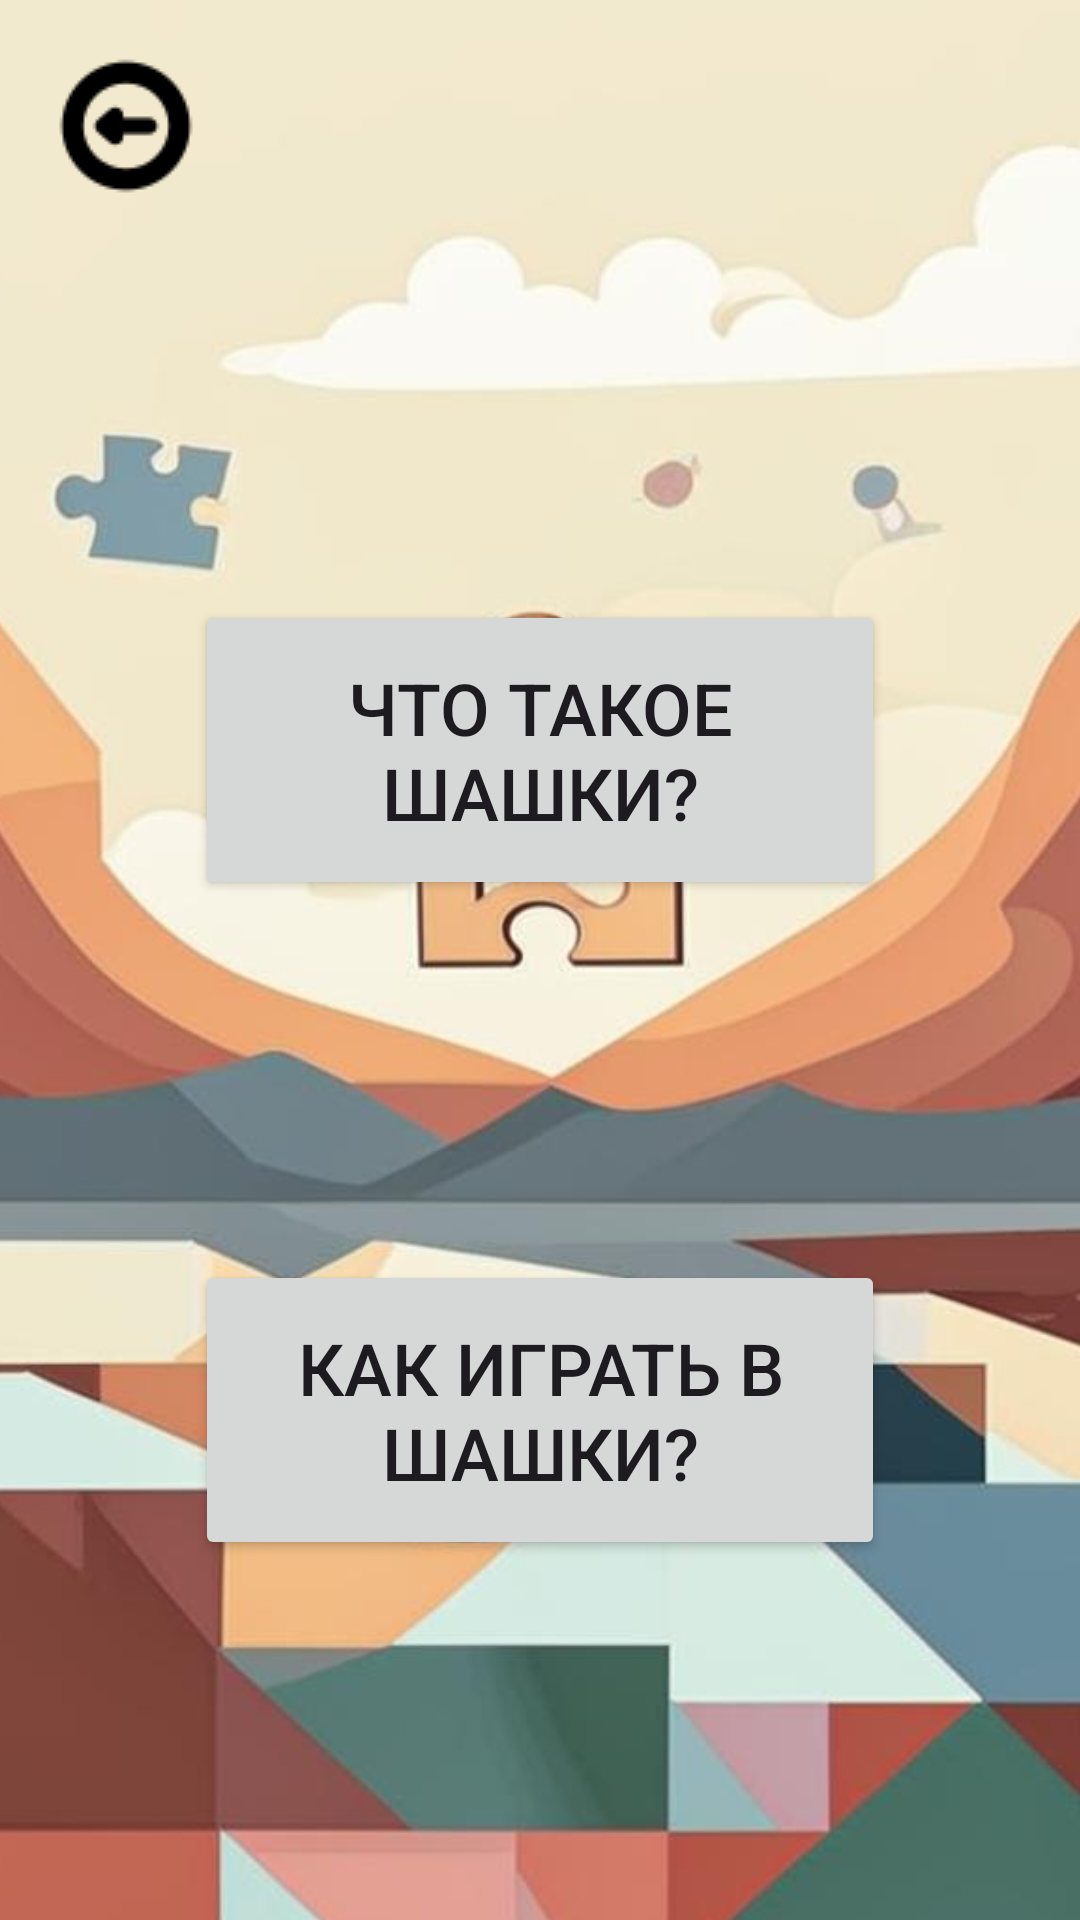

Icon click points for this 1080 × 1920 phone screenshot, format [x,y]:
back: [126,126]
